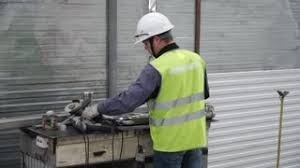helmet: (134, 12, 174, 40)
person with full safety: (130, 11, 211, 167)
safety vest: (145, 51, 207, 149)
